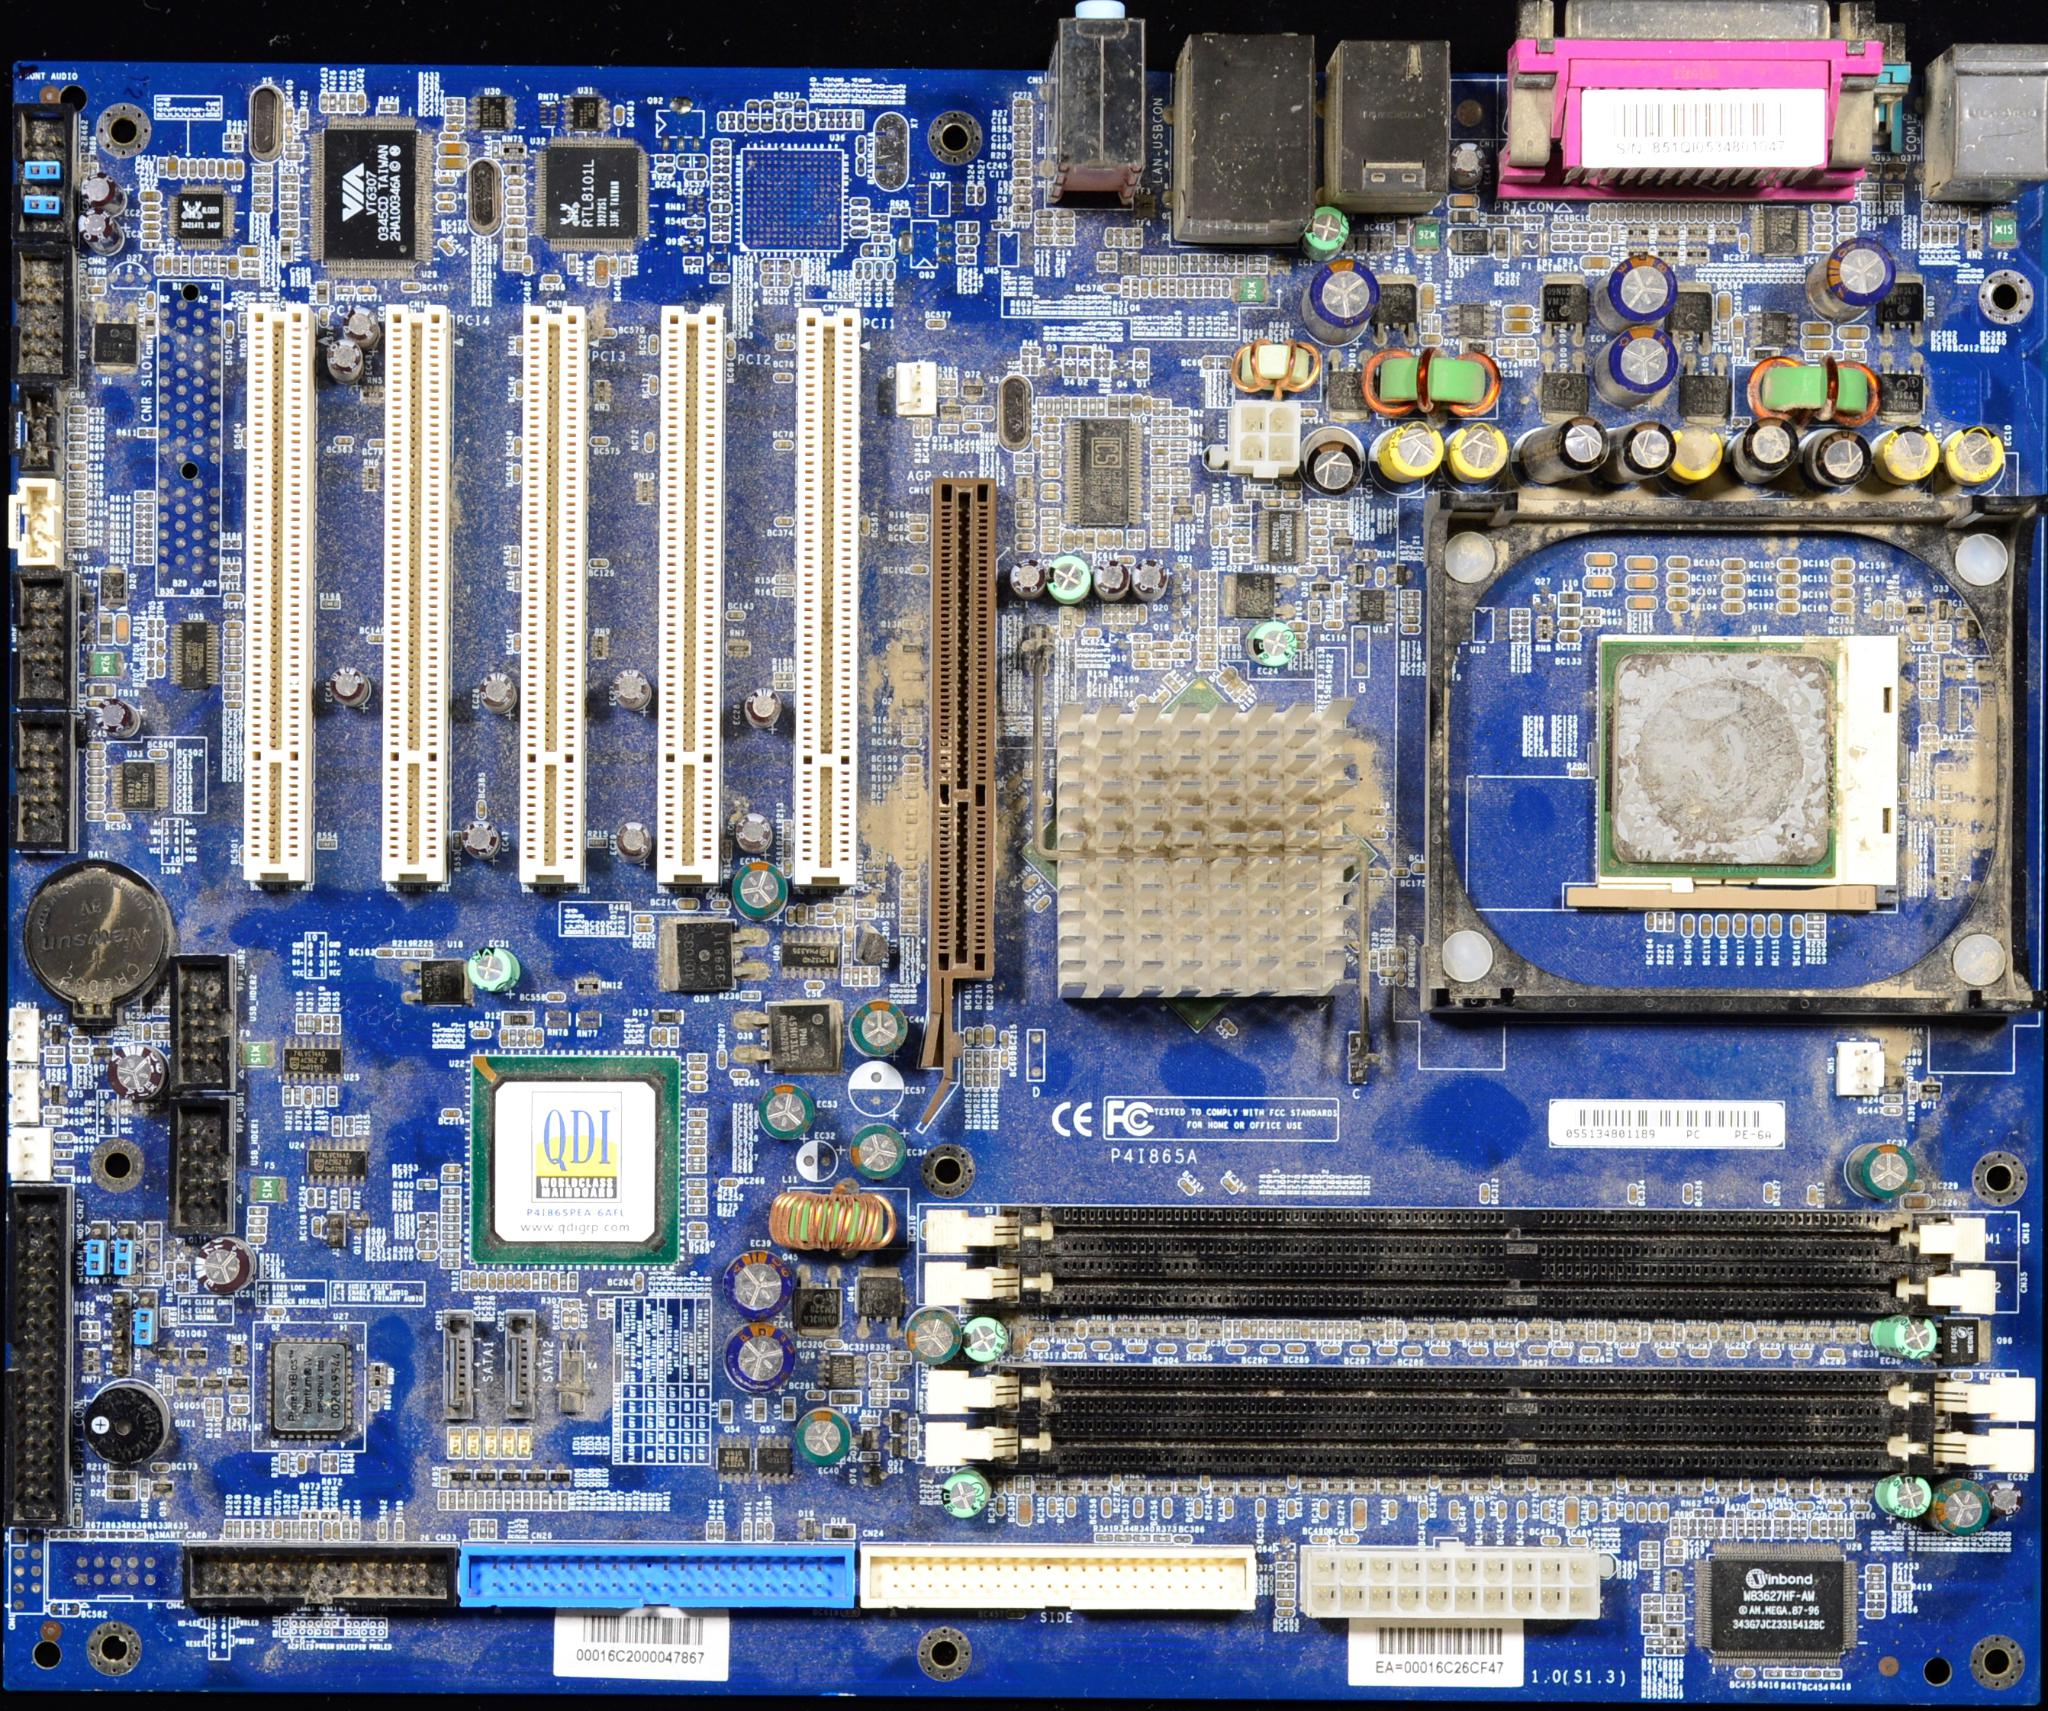Capacitor Jumper: (723, 1322, 791, 1393), (847, 1123, 908, 1182), (191, 1236, 257, 1291), (849, 998, 908, 1056), (111, 1043, 165, 1102), (757, 1082, 813, 1138), (469, 946, 517, 993), (1582, 575, 1616, 592), (1584, 551, 1618, 566), (1626, 594, 1657, 609), (1733, 912, 1745, 939), (1752, 912, 1764, 937), (1699, 915, 1713, 937), (1769, 915, 1781, 937), (1716, 915, 1728, 937), (1558, 617, 1580, 629), (1558, 631, 1580, 641), (730, 1068, 750, 1078), (442, 1106, 463, 1116), (823, 1339, 844, 1349), (442, 1163, 461, 1174), (230, 1403, 248, 1413), (687, 1072, 709, 1080), (1645, 912, 1655, 929), (1684, 913, 1692, 934), (1793, 915, 1801, 935), (650, 1026, 658, 1046), (689, 1082, 706, 1092), (54, 1131, 71, 1141), (718, 1179, 738, 1187), (313, 1216, 321, 1236), (514, 1270, 522, 1291), (549, 1270, 558, 1291), (264, 1306, 284, 1315), (570, 1308, 578, 1328), (150, 1461, 170, 1469), (374, 947, 393, 956), (718, 1049, 726, 1068), (71, 1054, 90, 1063), (687, 1221, 706, 1230), (561, 1310, 570, 1328), (806, 1390, 825, 1398), (148, 748, 167, 757), (633, 1274, 643, 1289), (143, 1022, 151, 1039), (500, 1029, 509, 1046), (687, 1119, 704, 1128), (687, 1146, 704, 1155), (497, 1272, 505, 1289), (323, 1521, 332, 1538), (332, 1521, 340, 1538), (471, 1029, 492, 1036), (507, 1270, 514, 1291), (522, 1270, 529, 1291), (488, 1272, 497, 1288), (105, 813, 124, 820), (304, 1085, 311, 1104), (687, 1187, 706, 1194), (298, 1452, 304, 1471), (687, 1063, 704, 1070), (418, 1252, 435, 1259), (471, 1270, 478, 1288), (480, 1272, 486, 1289), (879, 1373, 896, 1379), (662, 1027, 667, 1048), (248, 1235, 264, 1242), (87, 743, 105, 748), (315, 1014, 320, 1031), (276, 1519, 281, 1536)
Connector: (924, 1420, 2036, 1480), (919, 1257, 2004, 1315), (920, 1367, 2038, 1422), (919, 1206, 2012, 1255), (243, 299, 315, 886), (655, 301, 725, 888), (791, 304, 861, 891), (381, 303, 449, 883), (521, 301, 587, 884), (930, 473, 995, 983), (857, 1539, 1255, 1614), (459, 1539, 857, 1611), (5, 1179, 73, 1531), (182, 1543, 459, 1612), (170, 951, 238, 1094), (9, 240, 71, 381), (10, 102, 75, 238), (168, 1094, 231, 1231), (14, 566, 73, 709), (14, 711, 68, 852), (10, 381, 66, 475), (10, 476, 66, 566), (442, 1308, 476, 1418), (503, 1308, 536, 1418), (9, 1126, 53, 1179), (7, 1065, 43, 1126), (7, 1005, 39, 1063)
IC: (464, 1054, 686, 1269), (306, 112, 435, 282), (1694, 1539, 1859, 1668), (531, 136, 651, 255), (264, 1335, 354, 1441), (1061, 418, 1143, 527), (167, 182, 235, 248), (92, 301, 143, 384), (168, 611, 219, 691), (107, 755, 172, 815), (277, 1032, 345, 1085), (303, 1136, 373, 1187), (776, 929, 842, 980), (1747, 204, 1808, 259), (1254, 507, 1310, 565), (466, 92, 521, 133), (563, 92, 611, 136), (1444, 301, 1499, 338), (1749, 310, 1800, 345), (816, 1350, 864, 1388), (1351, 588, 1395, 622)
Resistor Jumper: (330, 1114, 342, 1136), (1820, 1667, 1842, 1679), (335, 284, 357, 296), (667, 1026, 679, 1046), (539, 1490, 551, 1510), (66, 507, 87, 519), (1580, 614, 1601, 626), (1805, 930, 1827, 941), (395, 1519, 405, 1541), (1230, 553, 1252, 563), (1844, 1517, 1856, 1536), (1232, 512, 1250, 524), (1664, 912, 1674, 932), (1378, 947, 1388, 968), (963, 1048, 973, 1068), (990, 1068, 1000, 1089), (686, 1163, 706, 1174), (417, 1179, 437, 1189), (441, 1204, 461, 1214), (687, 1230, 708, 1240), (558, 1270, 568, 1291), (78, 1330, 99, 1340), (891, 1350, 912, 1361), (223, 133, 243, 143), (369, 1390, 379, 1410), (279, 1452, 289, 1473), (485, 1490, 495, 1510), (522, 1490, 532, 1510), (299, 1509, 320, 1519), (1640, 1558, 1660, 1568), (1783, 1668, 1803, 1679), (156, 156, 167, 177), (1055, 235, 1075, 245), (1141, 255, 1152, 276), (66, 480, 87, 490), (1194, 493, 1204, 514), (1233, 684, 1247, 699), (1771, 1519, 1783, 1536), (304, 1014, 315, 1032), (963, 1068, 973, 1087), (327, 1085, 337, 1104), (298, 111, 308, 129), (854, 111, 864, 129), (442, 1194, 461, 1204), (568, 1272, 578, 1291), (597, 1299, 607, 1318), (861, 1413, 879, 1424), (223, 141, 242, 151), (1022, 1475, 1033, 1493), (490, 139, 500, 158), (503, 1490, 514, 1509), (512, 1492, 522, 1510), (1670, 1517, 1681, 1536), (1725, 1517, 1735, 1536), (1735, 1517, 1745, 1536), (253, 1519, 264, 1538), (742, 1521, 752, 1539), (704, 1522, 714, 1541), (180, 255, 191, 274), (68, 441, 87, 451), (1041, 441, 1060, 451), (1170, 451, 1189, 461), (68, 469, 87, 480), (1152, 475, 1170, 485), (1152, 510, 1170, 520), (1332, 600, 1342, 619), (1400, 605, 1419, 616), (223, 653, 242, 663), (560, 1298, 582, 1306), (488, 1517, 497, 1539), (1568, 769, 1589, 777), (338, 92, 347, 112), (296, 1014, 304, 1034), (293, 1085, 301, 1106), (338, 1189, 349, 1206), (247, 1208, 267, 1216), (439, 1250, 459, 1259), (541, 1269, 549, 1289), (531, 1270, 539, 1291), (80, 1322, 100, 1330), (230, 1395, 250, 1403), (213, 1396, 221, 1417), (204, 1398, 213, 1418), (910, 1417, 919, 1437), (1012, 139, 1029, 150), (139, 1478, 148, 1498), (456, 1490, 466, 1507), (447, 1490, 456, 1510), (439, 1490, 447, 1510), (493, 1490, 502, 1510), (560, 1490, 568, 1510), (243, 1519, 252, 1539), (264, 1519, 272, 1539), (233, 1519, 242, 1539), (291, 1519, 299, 1539), (308, 1521, 318, 1538), (350, 1519, 359, 1539), (1864, 1573, 1885, 1582), (1645, 1636, 1662, 1646), (1883, 182, 1903, 190), (279, 211, 299, 219), (1095, 250, 1116, 259), (242, 259, 259, 269), (1167, 255, 1177, 272), (240, 269, 260, 277), (1150, 400, 1170, 408), (1169, 466, 1189, 475), (1039, 509, 1060, 517), (1017, 509, 1034, 519), (1039, 519, 1060, 527), (66, 527, 87, 536), (66, 537, 87, 546), (1806, 912, 1825, 920), (1655, 912, 1664, 930), (413, 947, 432, 956), (395, 947, 413, 956), (1369, 951, 1378, 969), (446, 97, 464, 105), (321, 1014, 330, 1032), (315, 1087, 323, 1106), (1883, 1094, 1902, 1102), (446, 105, 464, 114), (687, 1177, 706, 1185), (687, 1196, 706, 1204), (687, 1206, 706, 1214), (441, 1259, 459, 1267), (459, 1270, 468, 1289), (890, 1388, 908, 1396), (869, 1396, 888, 1405), (908, 1439, 917, 1458), (439, 1468, 447, 1486), (476, 1490, 485, 1509), (1745, 1517, 1754, 1536), (1800, 1517, 1808, 1536), (469, 1519, 478, 1538), (1789, 1519, 1798, 1538), (225, 1519, 233, 1538), (282, 1519, 291, 1538), (716, 1521, 725, 1539), (755, 1521, 764, 1539), (299, 1521, 308, 1539), (1152, 1532, 1170, 1541), (1094, 1532, 1112, 1541), (1640, 1541, 1658, 1549), (1640, 1549, 1658, 1558), (1893, 1582, 1912, 1590), (1866, 1590, 1885, 1599), (1665, 1636, 1684, 1645), (1665, 1646, 1684, 1655), (1764, 1668, 1783, 1677), (281, 173, 299, 182), (281, 192, 299, 201), (1883, 192, 1902, 201), (1837, 204, 1856, 213), (1010, 213, 1029, 221), (211, 255, 219, 274), (1169, 277, 1177, 296), (1158, 277, 1167, 296), (68, 415, 87, 423), (913, 417, 922, 435), (68, 423, 87, 432), (1152, 427, 1170, 435), (1152, 486, 1170, 495), (66, 498, 85, 507), (1015, 502, 1034, 510), (1211, 505, 1220, 524), (1136, 531, 1145, 549), (1220, 626, 1238, 634), (1220, 634, 1238, 643), (1133, 641, 1152, 650), (1152, 660, 1170, 668), (223, 674, 242, 682), (907, 514, 929, 520), (328, 94, 337, 111), (442, 1240, 459, 1248), (532, 1492, 541, 1509), (551, 1492, 560, 1509), (342, 1521, 350, 1538), (1014, 150, 1031, 158), (1665, 1546, 1682, 1555), (1815, 213, 1832, 221), (1837, 216, 1854, 225), (1036, 218, 1053, 226), (279, 221, 296, 230), (503, 252, 521, 260), (1249, 255, 1266, 264), (503, 260, 521, 269), (1070, 396, 1078, 413), (1097, 396, 1106, 413), (1170, 427, 1187, 435), (1152, 437, 1169, 446), (1170, 437, 1187, 446), (1152, 537, 1169, 546), (1402, 590, 1419, 599), (378, 104, 398, 111), (284, 1085, 291, 1106), (441, 1187, 461, 1194), (468, 1490, 475, 1510), (320, 1510, 340, 1517), (1708, 1515, 1715, 1536), (1135, 228, 1141, 248), (939, 425, 959, 432), (68, 452, 88, 459), (1150, 503, 1170, 510), (1039, 527, 1060, 534), (1582, 607, 1602, 614), (1509, 607, 1529, 614), (223, 638, 243, 645), (1043, 432, 1058, 441), (1806, 922, 1825, 929), (1390, 947, 1397, 966), (975, 1049, 981, 1068), (992, 1049, 998, 1068), (1014, 109, 1033, 116), (687, 1155, 706, 1162), (442, 1214, 461, 1221), (442, 1231, 461, 1238), (1014, 124, 1033, 131), (286, 145, 304, 151), (1820, 1517, 1827, 1536), (1755, 1517, 1762, 1536), (1837, 1519, 1844, 1538), (480, 1519, 486, 1538), (379, 1521, 386, 1539), (1131, 1534, 1150, 1541), (1866, 1582, 1885, 1589), (1859, 184, 1878, 190), (1813, 225, 1832, 231), (1839, 225, 1857, 231), (1237, 253, 1243, 272), (155, 255, 162, 274), (219, 257, 226, 276), (1063, 396, 1070, 415), (1038, 396, 1044, 415), (1053, 396, 1060, 415), (1172, 486, 1191, 493), (349, 94, 356, 111), (973, 1070, 980, 1087), (442, 1174, 459, 1180), (316, 1189, 323, 1206), (442, 1223, 459, 1230), (871, 1390, 888, 1396), (321, 1454, 328, 1471), (1015, 1476, 1022, 1493), (1681, 1517, 1687, 1534), (1114, 1534, 1131, 1541), (281, 184, 298, 190), (1014, 187, 1031, 194), (1056, 218, 1073, 225), (1034, 235, 1051, 242), (1152, 255, 1158, 272), (202, 257, 209, 274), (1249, 265, 1266, 272), (1131, 277, 1138, 294), (1080, 396, 1087, 413), (1090, 398, 1097, 415), (1046, 398, 1053, 415), (1043, 452, 1060, 459), (1152, 468, 1169, 475), (1172, 476, 1189, 483), (1402, 599, 1419, 605), (871, 1381, 886, 1388), (1152, 522, 1172, 527), (1861, 194, 1880, 199), (1162, 255, 1167, 274), (1041, 461, 1060, 466), (1150, 458, 1167, 463), (1043, 536, 1060, 541), (1123, 279, 1128, 293)
Transistor: (662, 917, 772, 995), (737, 1000, 840, 1070), (1674, 352, 1737, 418), (1538, 349, 1590, 422), (1327, 349, 1378, 423), (852, 1267, 905, 1339), (1221, 570, 1296, 619), (1538, 272, 1590, 342), (1873, 352, 1926, 422), (1878, 274, 1927, 347), (1371, 272, 1417, 345), (401, 959, 471, 1005), (794, 1265, 840, 1335), (1669, 282, 1715, 349), (1932, 1316, 1994, 1364), (716, 1432, 752, 1483), (755, 1435, 793, 1483), (41, 1082, 71, 1106), (174, 1367, 199, 1395), (861, 1463, 888, 1488), (522, 1461, 548, 1488), (1386, 561, 1414, 587), (41, 1020, 68, 1044), (199, 1367, 223, 1395), (548, 1461, 572, 1488), (500, 1461, 522, 1490), (184, 1340, 209, 1364), (156, 1340, 182, 1364), (883, 1408, 908, 1432), (473, 1461, 497, 1486), (937, 398, 963, 422), (228, 1366, 250, 1393), (852, 1427, 879, 1449), (1347, 560, 1369, 587), (1919, 1077, 1943, 1100), (1308, 575, 1332, 599), (885, 1432, 907, 1458), (451, 1461, 473, 1486), (151, 1473, 174, 1498), (92, 1036, 112, 1063), (1332, 529, 1354, 553), (963, 378, 983, 403), (347, 1209, 367, 1233), (1174, 497, 1192, 522)
